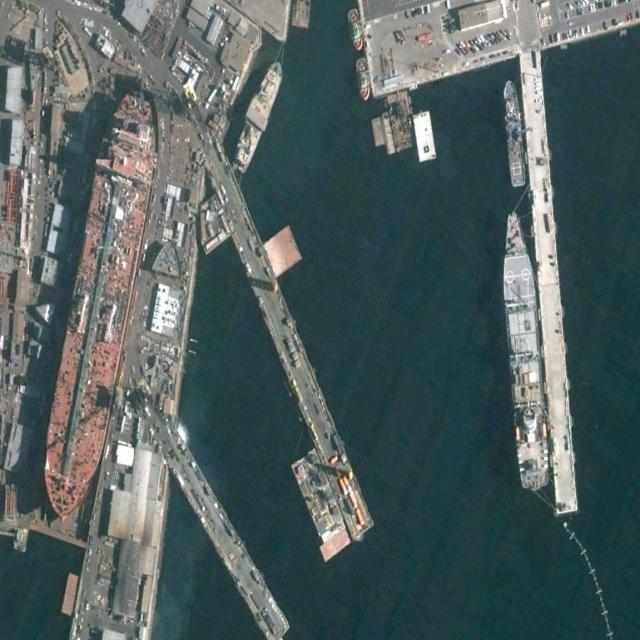Cargo: (33, 85, 166, 527)
Other Ship: (495, 206, 552, 494), (227, 53, 288, 178), (503, 77, 526, 188), (346, 6, 364, 52), (356, 56, 371, 102)
